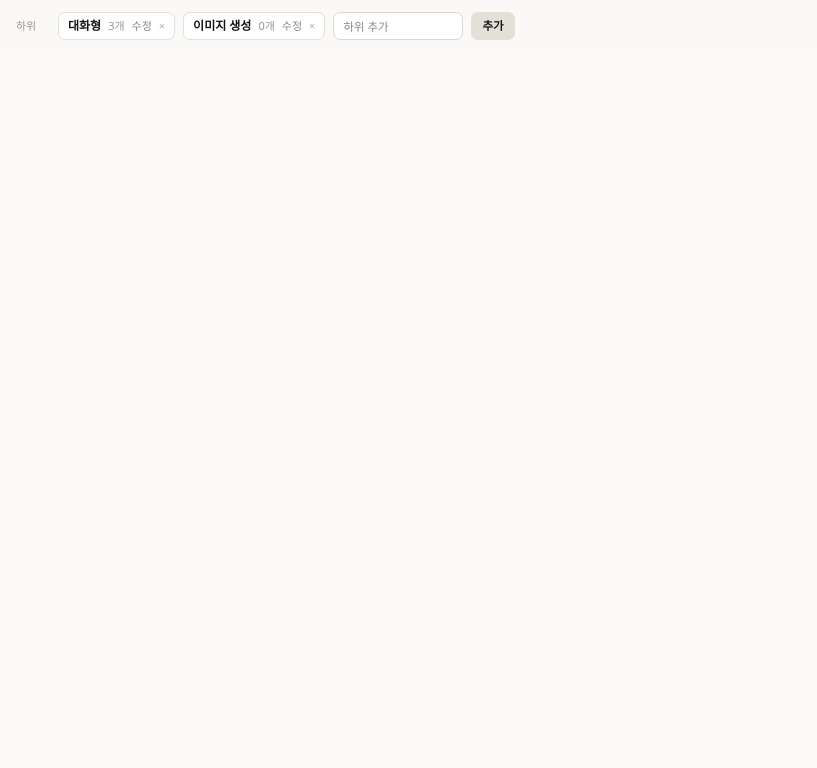
Scenario: SubCategoryRow — 이름 수정 › 실패하면 문구를 그대로 띄우고 고치던 이름을 그대로 둔다
Click the button with aria-label "대화형 이름 수정" at (142, 26), box [132,18,152,34]
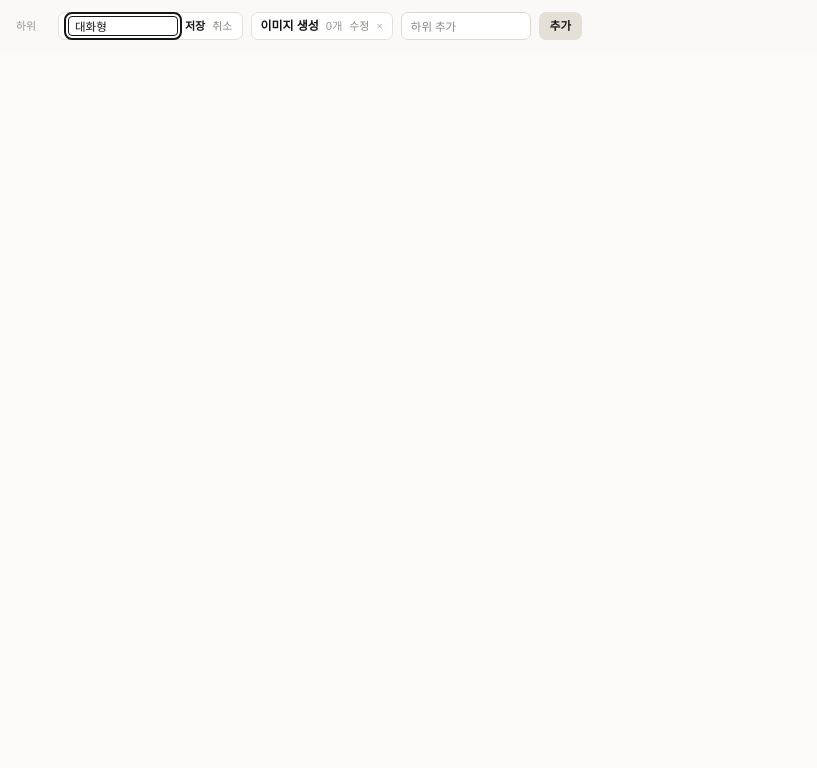
Replace the text in the field named "하위 카테고리 이름" with "챗봇" at (123, 26), box [68,16,178,36]
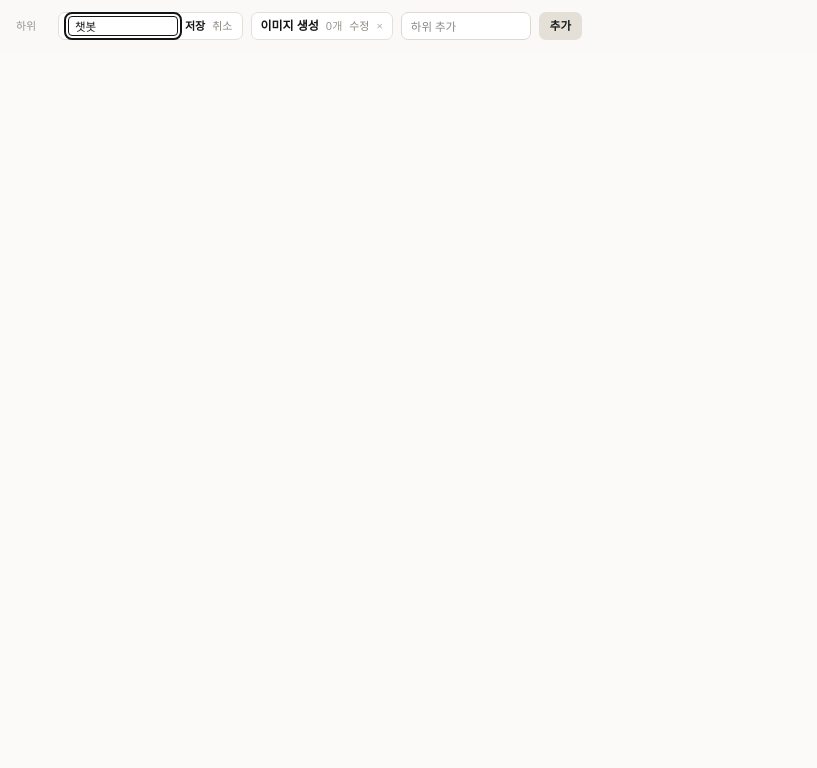
Click the button "저장" at (195, 26), box [185,18,205,34]
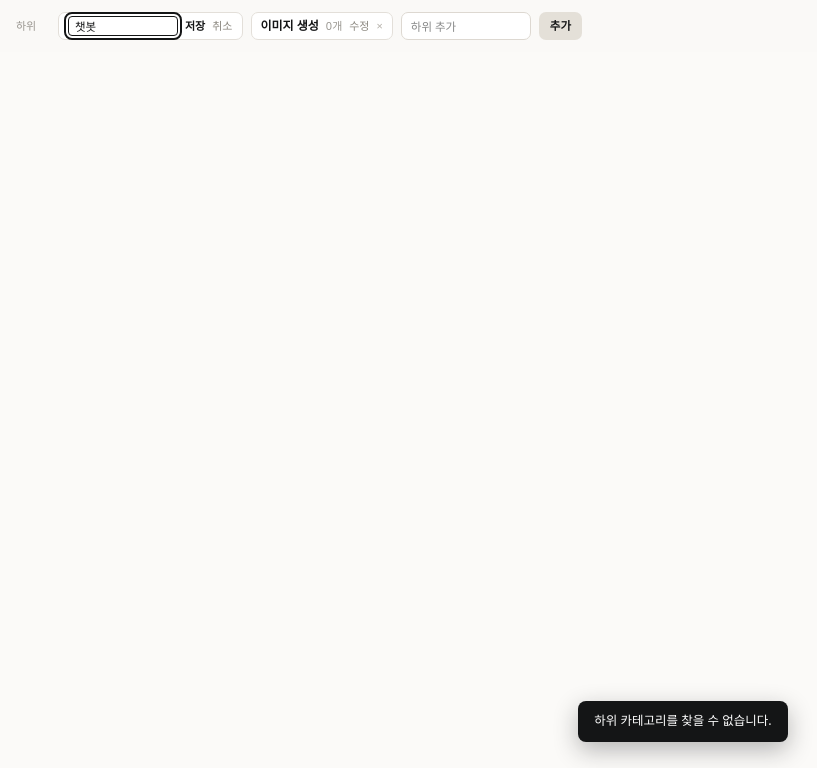
expect the message reads "하위 카테고리를 찾을 수 없습니다.": met, box [594,712,772,729]
